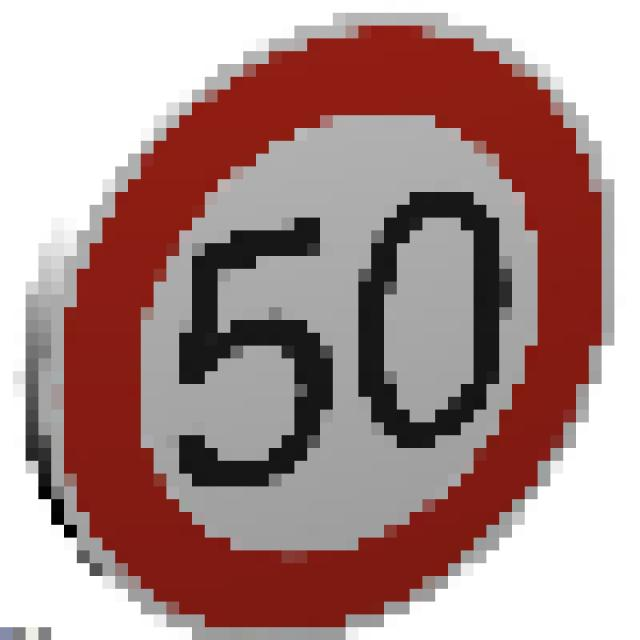Limite-50: (55, 16, 610, 640)
